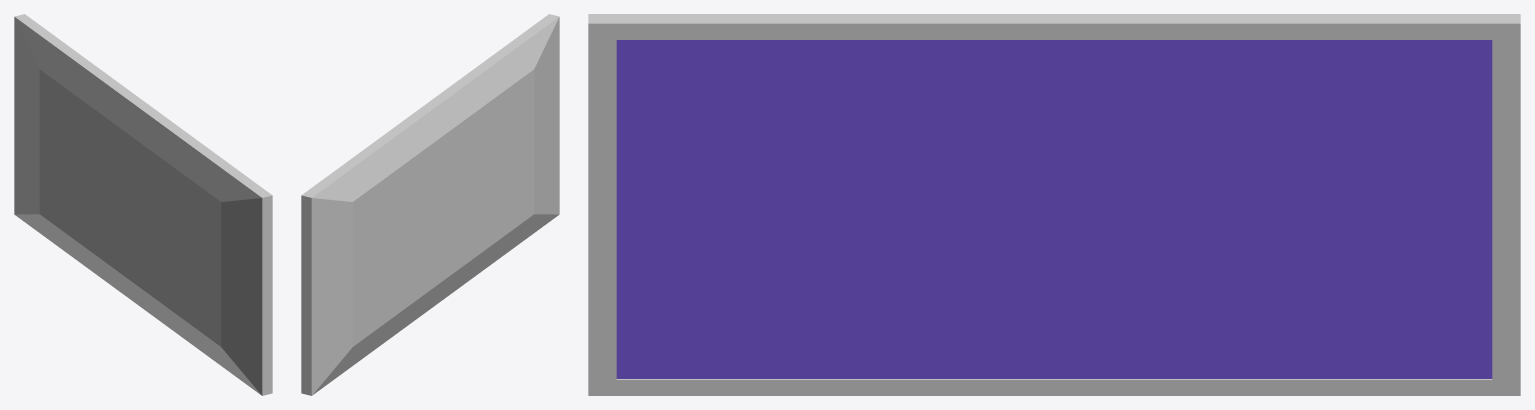
File: keycard.fbx
The picture shows the model from 3 angles, left to right: view 1: azimuth 30°, elevation 25°; view 2: azimuth 150°, elevation 25°; view 3: azimuth 270°, elevation 25°; orthographic projection. The views are drawn at different scales.
Visible parts, largest first — view 1: Cube; view 2: Cube; view 3: Cube.
Boxes of the visible parts, x1,y1,x2,y2 form: Cube: [14, 14, 272, 395]; Cube: [301, 14, 559, 395]; Cube: [588, 14, 1520, 395].
Size of the model in its own units: 26.79 by 278 by 630.
